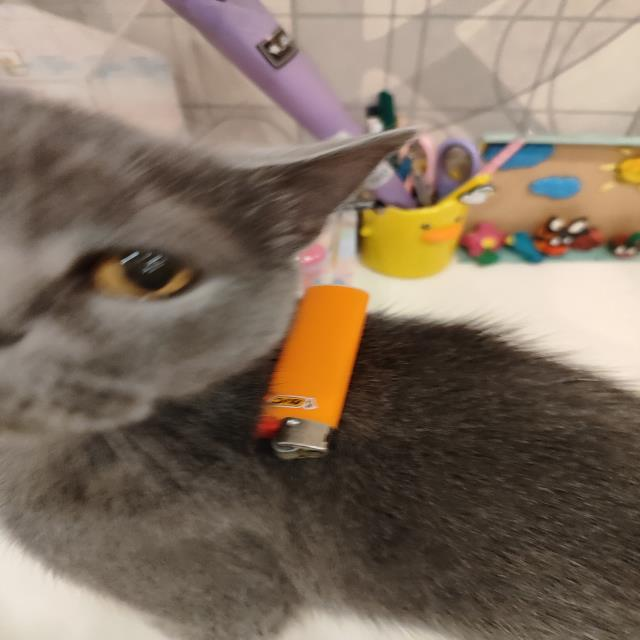lighter: (257, 285, 366, 458)
